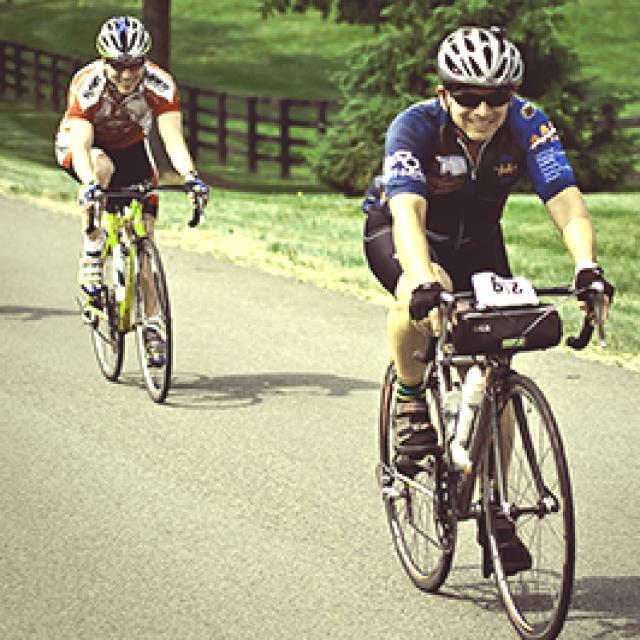Helmet: (421, 22, 525, 138), (92, 14, 150, 95)
